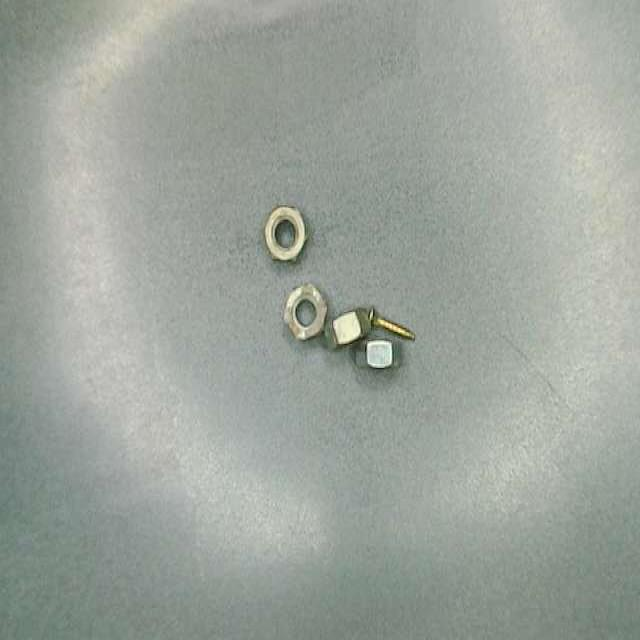Parafuso: (368, 308, 415, 341)
Porca: (283, 284, 327, 341), (264, 206, 306, 261), (328, 308, 370, 346), (365, 340, 396, 369)
